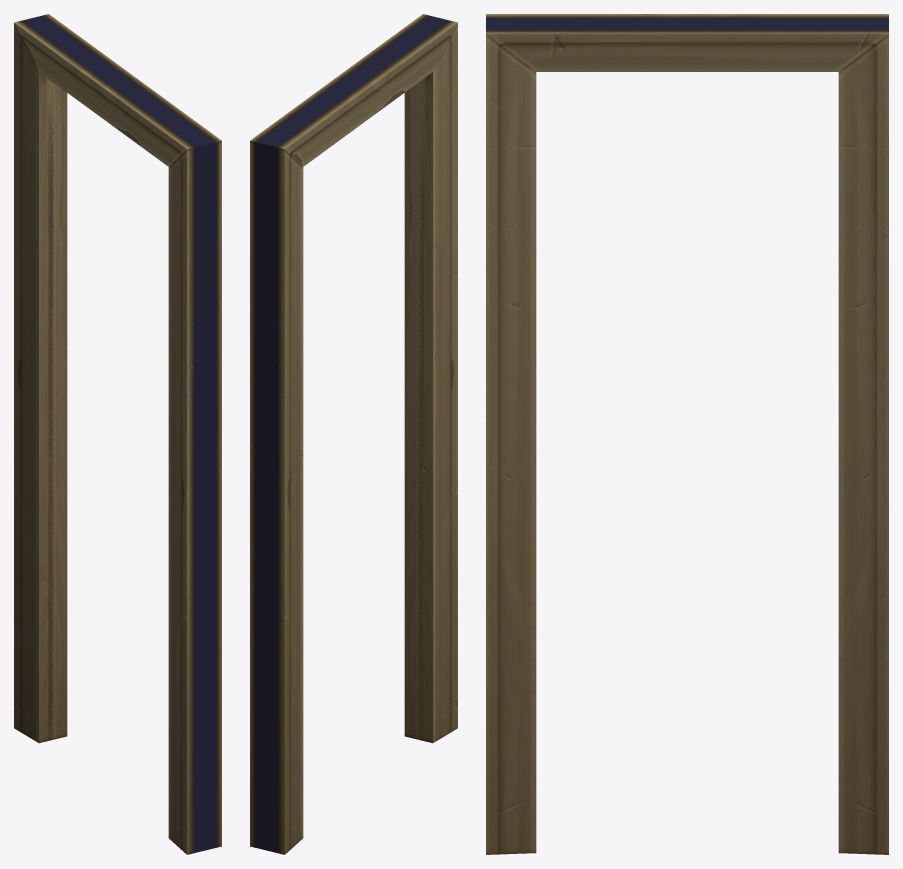
The model's file is puertaMovible.fbx.
3 views of the same model, side by side, from view 1: azimuth 30°, elevation 25°; view 2: azimuth 150°, elevation 25°; view 3: azimuth 270°, elevation 25° (orthographic). The views are drawn at different scales.
Parts seen in each view (by area): view 1: marcoPuerta; view 2: marcoPuerta; view 3: marcoPuerta.
Boxes of the visible parts, x1,y1,x2,y2 form: marcoPuerta: (14,14,221,854); marcoPuerta: (250,14,457,854); marcoPuerta: (486,14,888,854).
Size of the model in its own units: 20.31 by 394 by 175.
Materials: 5 (5 with a texture image).
